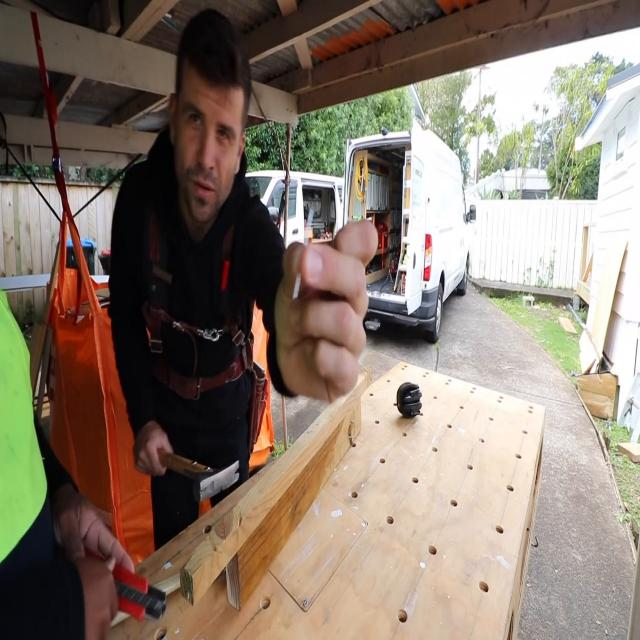hammer: (160, 452, 239, 502)
